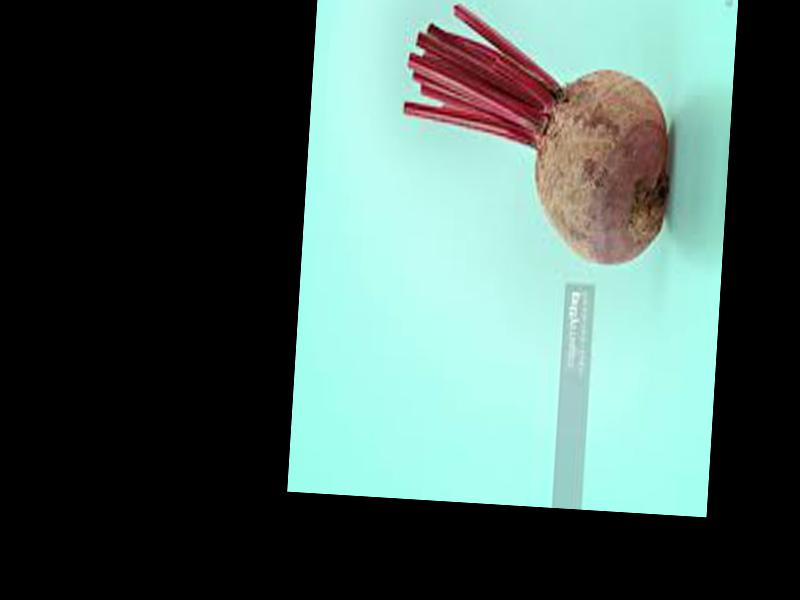Beet: (393, 3, 679, 268)
